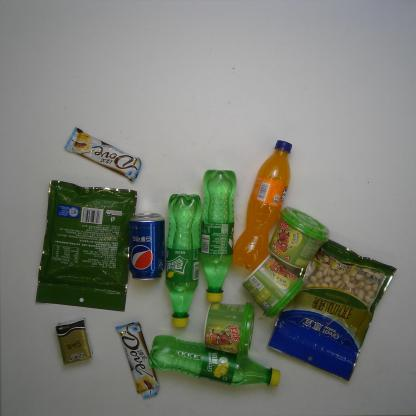Chocolate: (63, 128, 141, 182), (112, 320, 161, 401)
Dried Fruit: (265, 238, 399, 383), (30, 179, 140, 314)
Drink: (146, 334, 283, 396), (230, 137, 293, 271), (164, 192, 203, 330), (199, 168, 238, 304), (128, 210, 167, 283)
Instant Drink: (240, 253, 307, 321), (267, 204, 331, 272), (202, 301, 257, 356)
Tissue: (52, 316, 96, 365)
